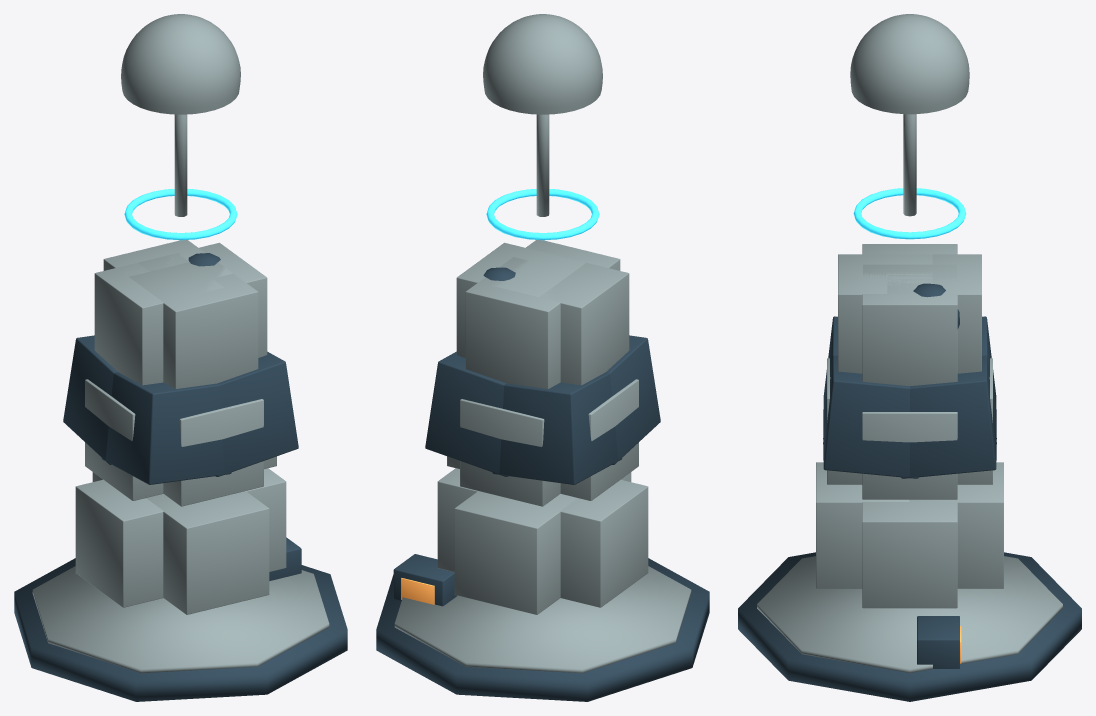
The model's file is orbital-comms.glb.
3 views of the same model, side by side, from view 1: azimuth 30°, elevation 25°; view 2: azimuth 150°, elevation 25°; view 3: azimuth 270°, elevation 25° (orthographic).
Visible parts, largest first — view 1: comms_base_ring, comms_base, comms_brace_1.2_2, comms_brace_3.6_2, comms_main_dish, comms_brace_1.2_1, comms_pylon_2, comms_brace_3.6_1, comms_pylon_3, comms_brace_2.4_2, comms_pylon_1, comms_brace_2.4_1 (+6 smaller); view 2: comms_base_ring, comms_base, comms_brace_1.2_0, comms_main_dish, comms_brace_1.2_1, comms_brace_3.6_0, comms_pylon_1, comms_brace_3.6_1, comms_pylon_0, comms_brace_2.4_0, comms_brace_3.6_3, comms_pylon_2 (+7 smaller); view 3: comms_base_ring, comms_base, comms_brace_1.2_3, comms_brace_3.6_3, comms_main_dish, comms_pylon_0, comms_pylon_3, comms_brace_1.2_0, comms_brace_1.2_2, comms_brace_2.4_3, comms_brace_3.6_2, comms_brace_3.6_0 (+6 smaller).
Boxes of the visible parts, left/top/right/bottom form: comms_base_ring: left=32, top=566, right=329, bottom=673; comms_base: left=14, top=558, right=347, bottom=701; comms_brace_1.2_2: left=146, top=491, right=269, bottom=614; comms_brace_3.6_2: left=129, top=262, right=258, bottom=388; comms_main_dish: left=121, top=14, right=240, bottom=114; comms_brace_1.2_1: left=75, top=479, right=163, bottom=607; comms_pylon_2: left=101, top=372, right=231, bottom=484; comms_brace_3.6_1: left=94, top=253, right=223, bottom=385; comms_pylon_3: left=215, top=351, right=298, bottom=476; comms_brace_2.4_2: left=163, top=399, right=263, bottom=506; comms_pylon_1: left=63, top=335, right=117, bottom=464; comms_brace_2.4_1: left=85, top=379, right=163, bottom=500; comms_base_ring: left=394, top=566, right=691, bottom=673; comms_base: left=376, top=558, right=709, bottom=701; comms_brace_1.2_0: left=454, top=491, right=577, bottom=614; comms_main_dish: left=483, top=14, right=602, bottom=114; comms_brace_1.2_1: left=560, top=479, right=648, bottom=607; comms_brace_3.6_0: left=465, top=257, right=561, bottom=388; comms_pylon_1: left=492, top=372, right=622, bottom=484; comms_brace_3.6_1: left=545, top=263, right=629, bottom=385; comms_pylon_0: left=425, top=351, right=508, bottom=476; comms_brace_2.4_0: left=460, top=399, right=560, bottom=506; comms_brace_3.6_3: left=456, top=242, right=585, bottom=357; comms_pylon_2: left=606, top=335, right=660, bottom=464; comms_base_ring: left=757, top=556, right=1062, bottom=672; comms_base: left=738, top=552, right=1081, bottom=701; comms_brace_1.2_3: left=862, top=502, right=957, bottom=608; comms_brace_3.6_3: left=862, top=264, right=957, bottom=386; comms_main_dish: left=850, top=14, right=969, bottom=114; comms_pylon_0: left=901, top=355, right=996, bottom=478; comms_pylon_3: left=823, top=355, right=918, bottom=478; comms_brace_1.2_0: left=909, top=462, right=1003, bottom=588; comms_brace_1.2_2: left=816, top=462, right=909, bottom=588; comms_brace_2.4_3: left=862, top=412, right=957, bottom=499; comms_brace_3.6_2: left=838, top=254, right=932, bottom=373; comms_brace_3.6_0: left=887, top=254, right=981, bottom=373.
Bounding box in the file's own units: 3.6 × 7.05 × 3.6.
